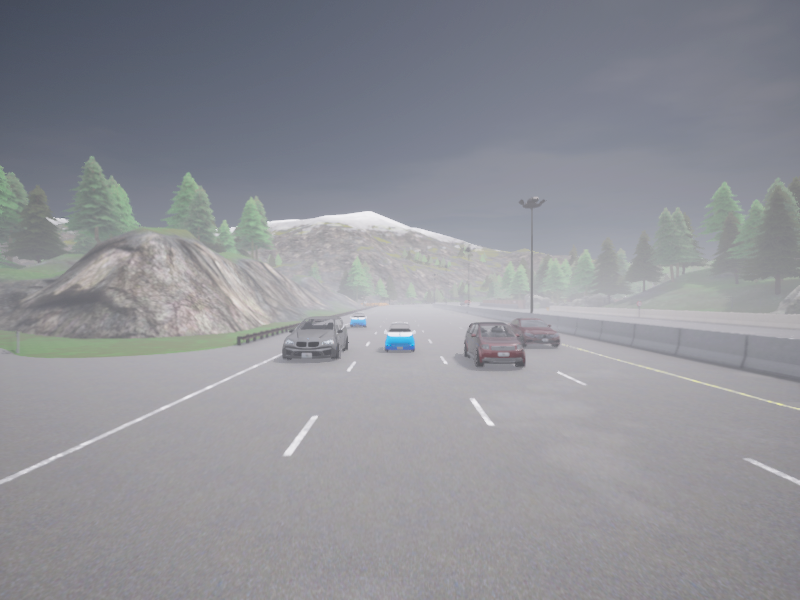vehicle: (282, 316, 348, 360), (463, 322, 524, 367), (507, 317, 560, 347), (384, 322, 415, 352), (350, 312, 366, 328), (465, 300, 471, 304), (460, 302, 464, 305)
